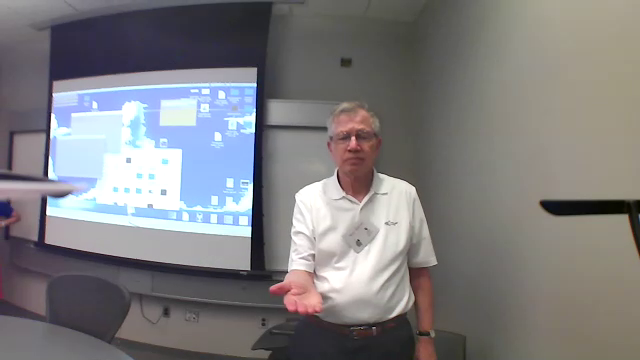land: (264, 270, 340, 322)
